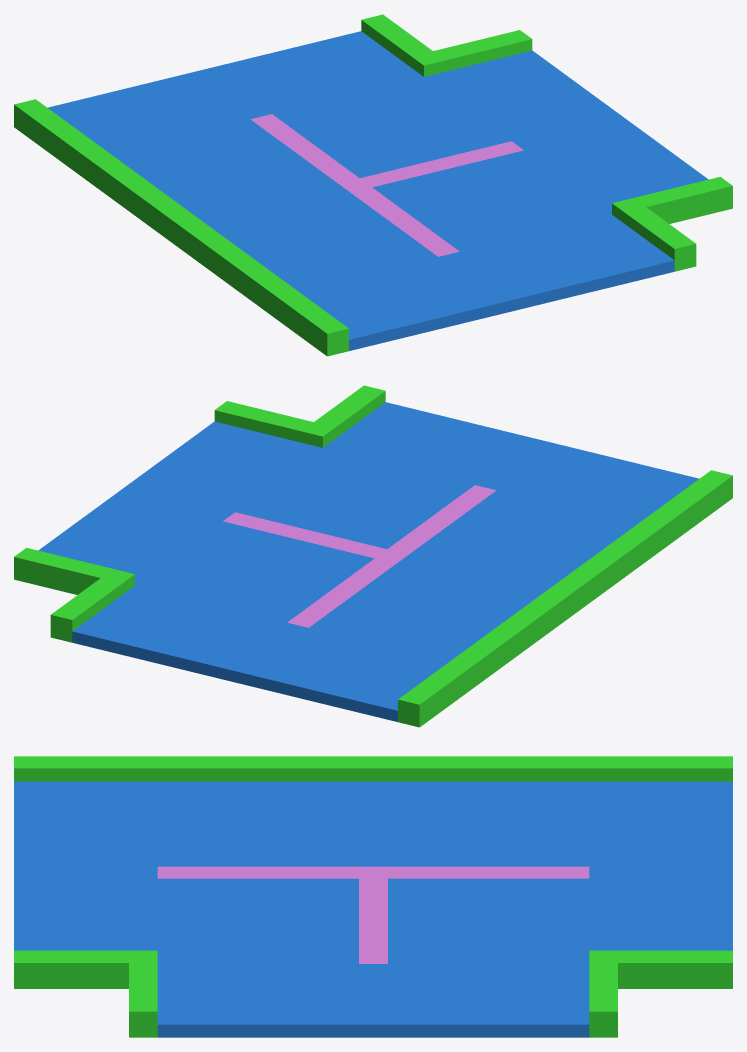
Rendered from asphalt_road_t_junction.fbx.
3 views of the same model, one above another, from view 1: azimuth 30°, elevation 25°; view 2: azimuth 150°, elevation 25°; view 3: azimuth 270°, elevation 25° (orthographic). The views are drawn at different scales.
Parts seen in each view (by area): view 1: asphalt_road_t_junction; view 2: asphalt_road_t_junction; view 3: asphalt_road_t_junction.
Boxes of the visible parts, bbox=[...] form: asphalt_road_t_junction: bbox=[14, 14, 732, 356]; asphalt_road_t_junction: bbox=[14, 385, 732, 727]; asphalt_road_t_junction: bbox=[14, 756, 732, 1037].
Size of the model in its own units: 420 by 20 by 500.
